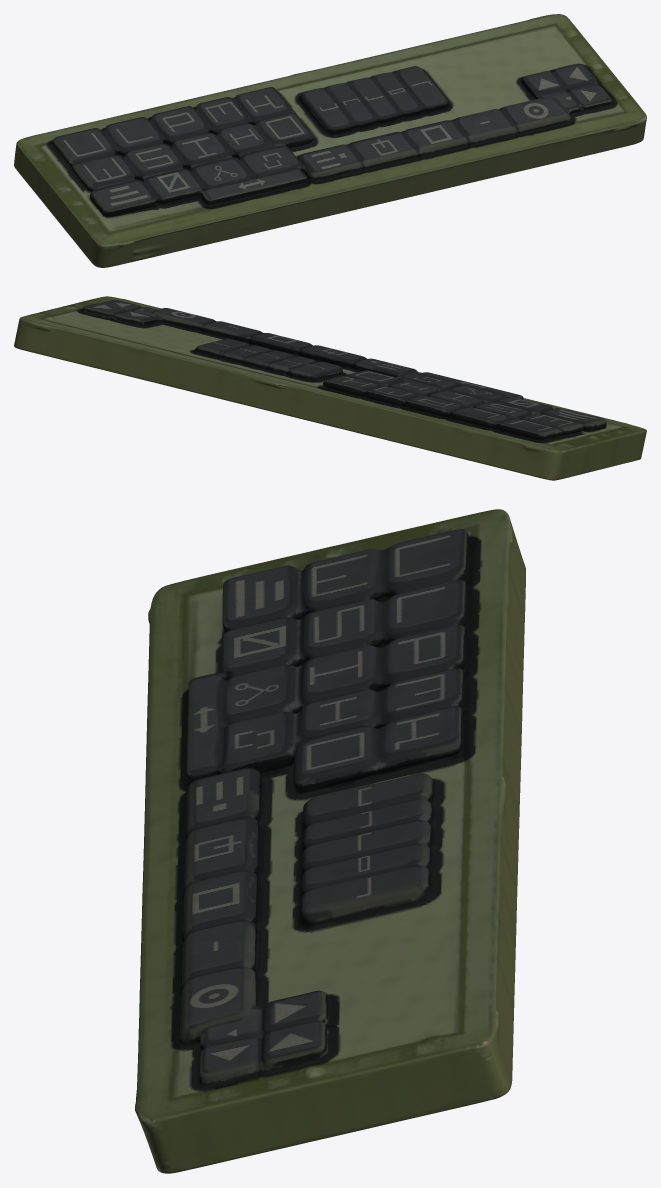
Rendered from console_keyboard.glb.
3 renders of one model, top to bottom at view 1: azimuth 30°, elevation 25°; view 2: azimuth 150°, elevation 25°; view 3: azimuth 270°, elevation 25°, orthographic. The views are drawn at different scales.
Visible parts, largest first — view 1: Keyboard; view 2: Keyboard; view 3: Keyboard.
Part boxes in pixels (bbox=[...]): Keyboard: bbox=[14, 14, 646, 267]; Keyboard: bbox=[14, 296, 646, 480]; Keyboard: bbox=[135, 509, 525, 1173].
Size of the model in its own units: 0.5279 by 0.0676 by 0.1627.
1 material, 1 textured.
